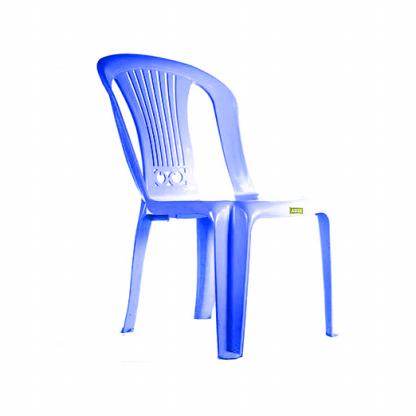chair: (97, 51, 344, 361)
